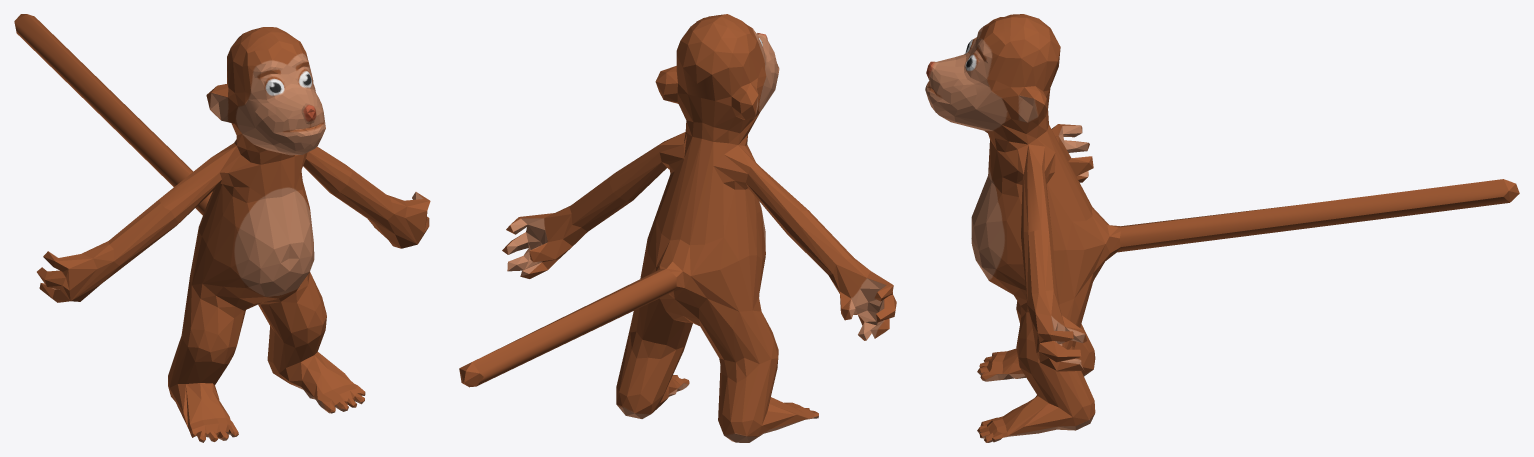
File: Monkey Model.fbx
The picture shows the model from 3 angles, left to right: view 1: azimuth 30°, elevation 25°; view 2: azimuth 150°, elevation 25°; view 3: azimuth 270°, elevation 25°; orthographic projection. The views are drawn at different scales.
Parts seen in each view (by area): view 1: group_pasted__polySurface3; view 2: group_pasted__polySurface3; view 3: group_pasted__polySurface3.
Part boxes in pixels (x1=…): group_pasted__polySurface3: x1=14, y1=14, x2=430, y2=442; group_pasted__polySurface3: x1=459, y1=14, x2=896, y2=442; group_pasted__polySurface3: x1=925, y1=14, x2=1519, y2=442.
Bounding box in the file's own units: 4.98 × 4.8 × 6.67.
Materials: 1 (1 with a texture image).
